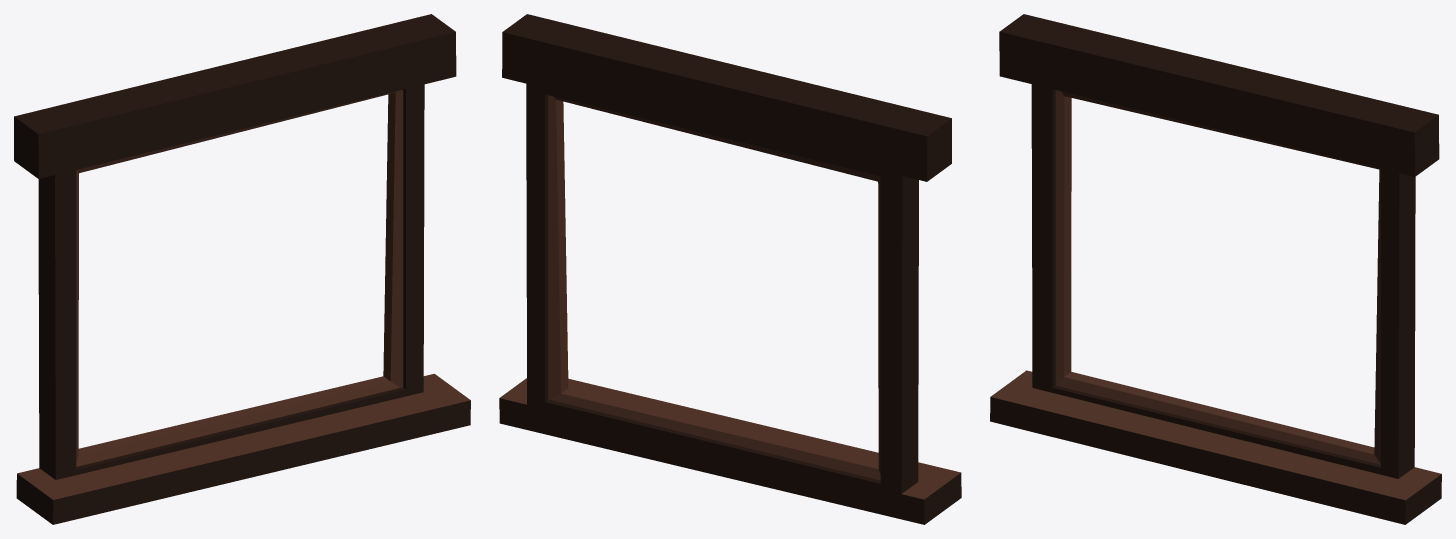
File: Window 4x4 V2 Frame.glb
3 renders of one model, left to right at view 1: azimuth 30°, elevation 25°; view 2: azimuth 150°, elevation 25°; view 3: azimuth 330°, elevation 25°, orthographic. The views are drawn at different scales.
Visible parts, largest first — view 1: Window 4x4 V2 Frame; view 2: Window 4x4 V2 Frame; view 3: Window 4x4 V2 Frame.
Part boxes in pixels (x1,y1,x2,y2): Window 4x4 V2 Frame: (14, 14, 470, 524); Window 4x4 V2 Frame: (499, 14, 961, 524); Window 4x4 V2 Frame: (990, 14, 1441, 524).
Bounding box in the file's own units: 2.36 × 2.06 × 0.3537.
Materials: 1 (1 with a texture image).
